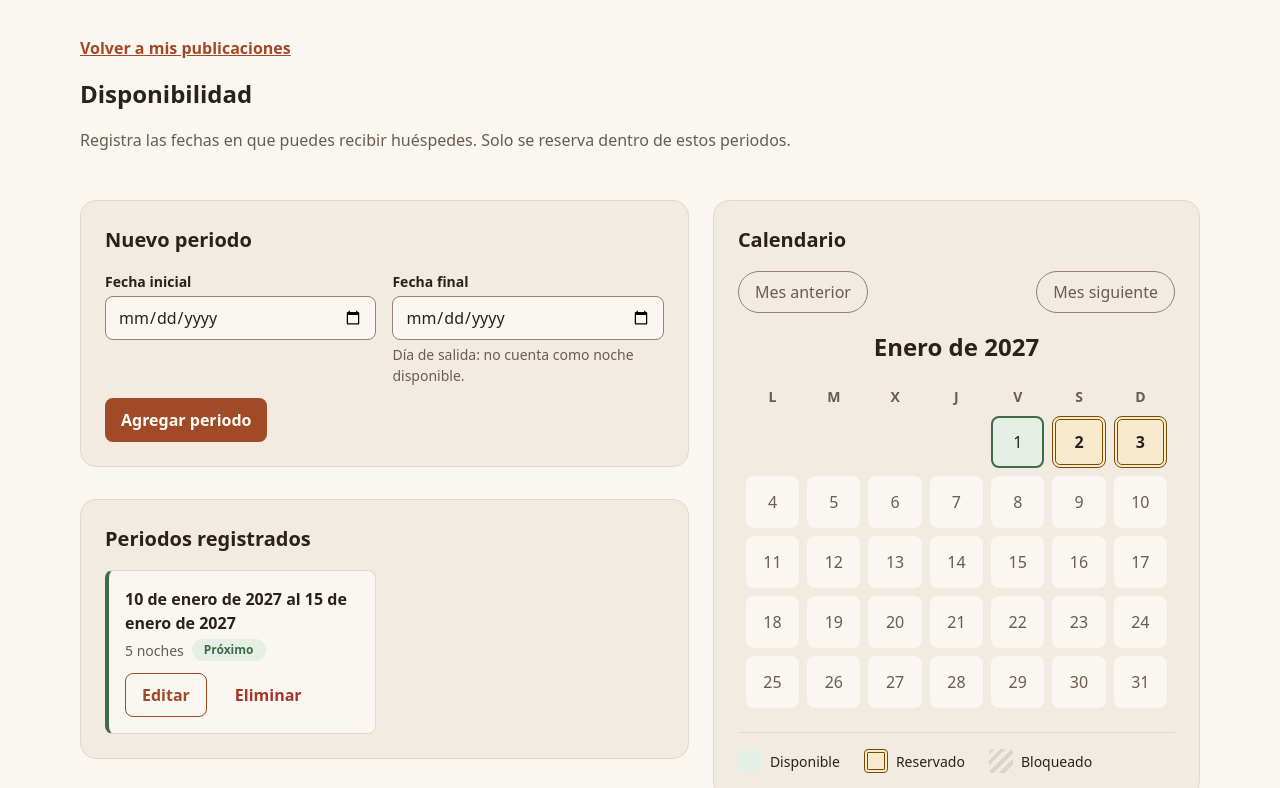
DisponibilidadPage › modifica las fechas de un periodo sin reservas
Step 1. Click the button "Editar" → (166, 695), box [125,673,207,717]
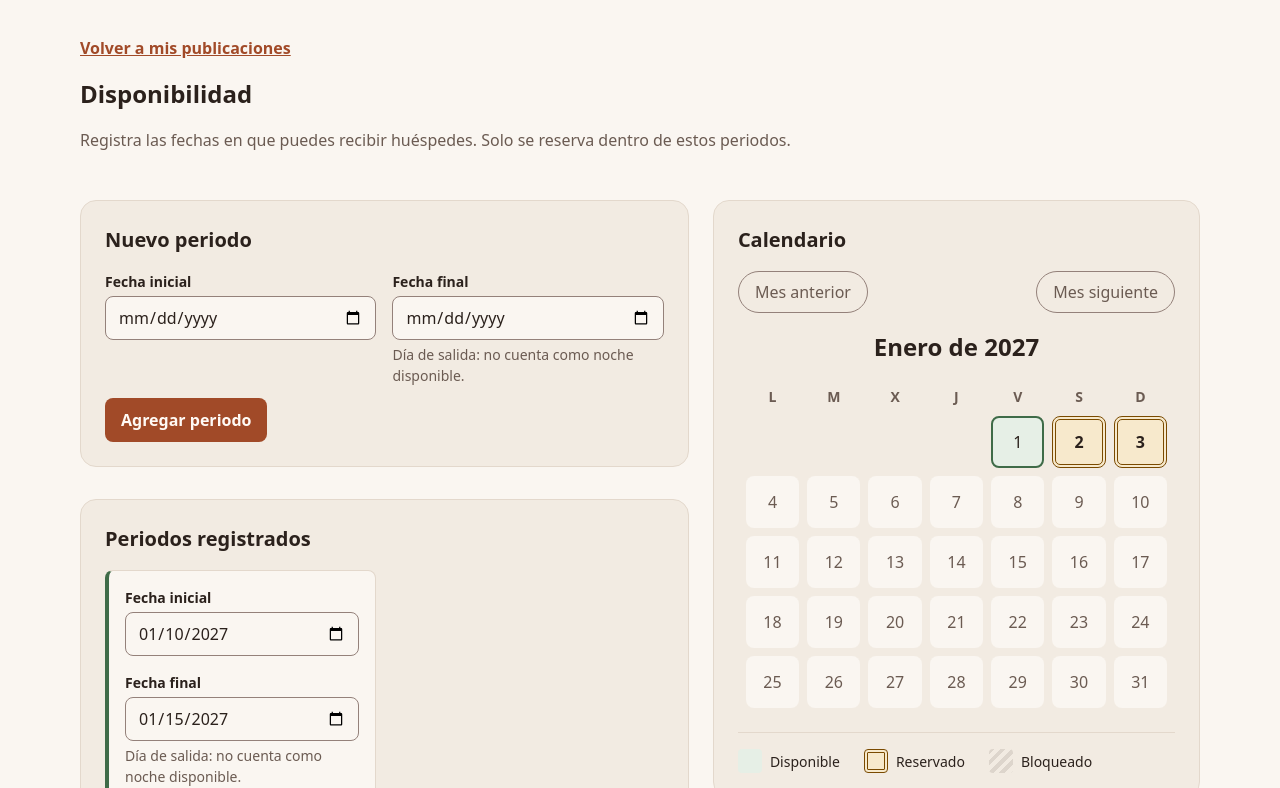
Step 2. Type "2027-01-20" into the date field labelled "Fecha final" below "Periodos registrados" → (242, 719), box [125,697,359,741]
(page scrolled)
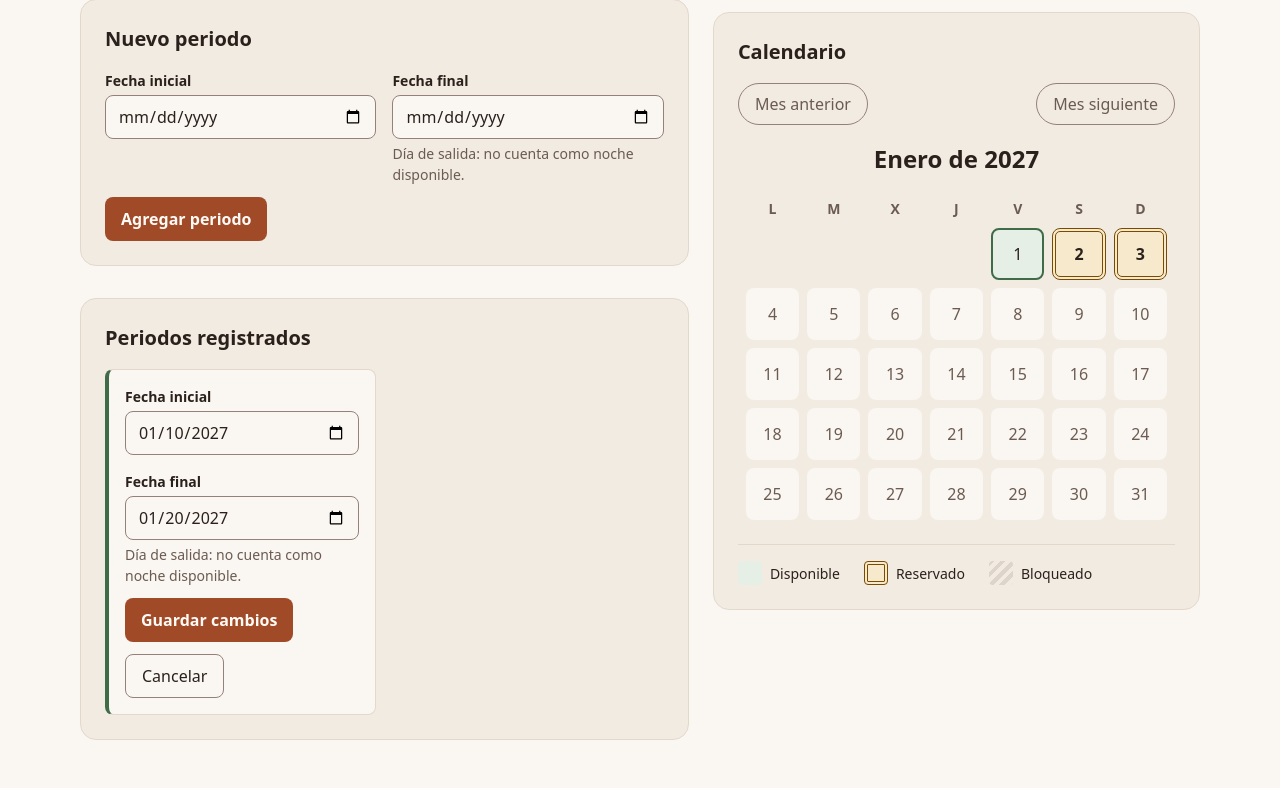
Step 3. Click the button "Guardar cambios" → (209, 620), box [125,598,293,642]
(page scrolled)
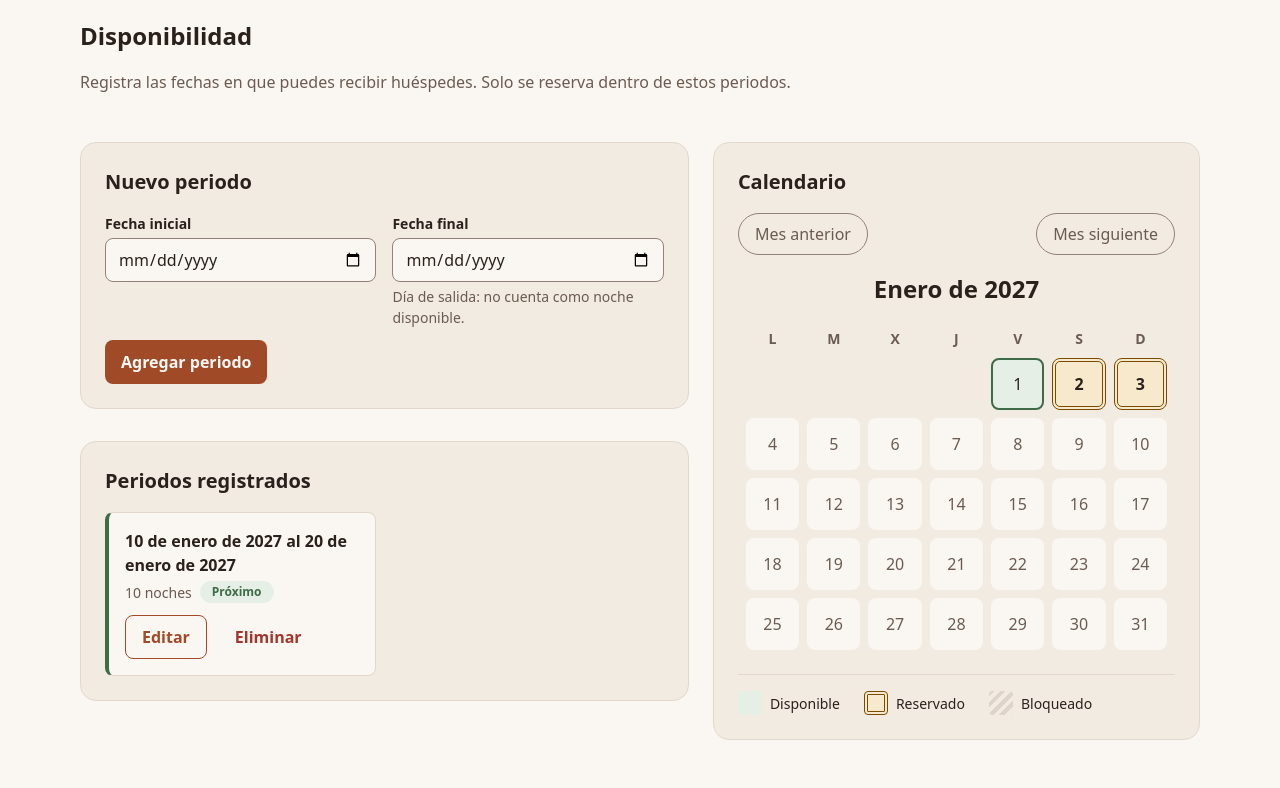
Result: the text "10 de enero de 2027 al 20 de enero de 2027" is shown at [125,529,359,577]
Result: the button "Guardar cambios" is gone
